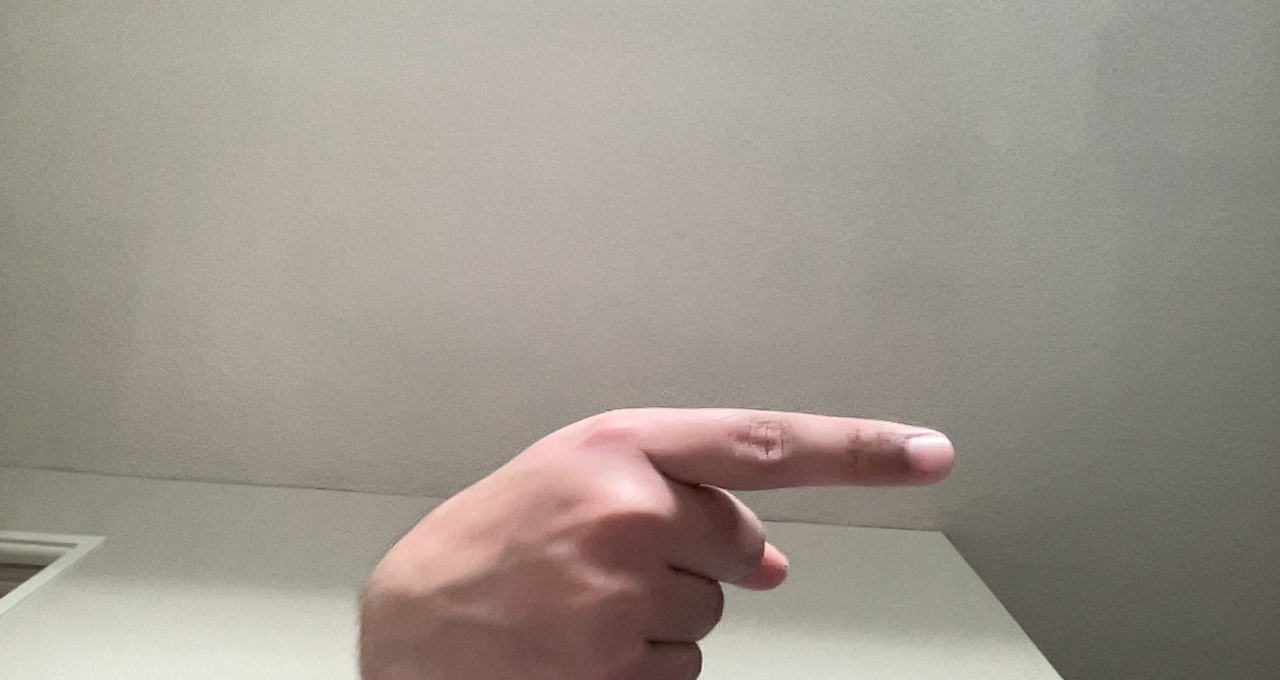fingerleft: (391, 402, 952, 674)
